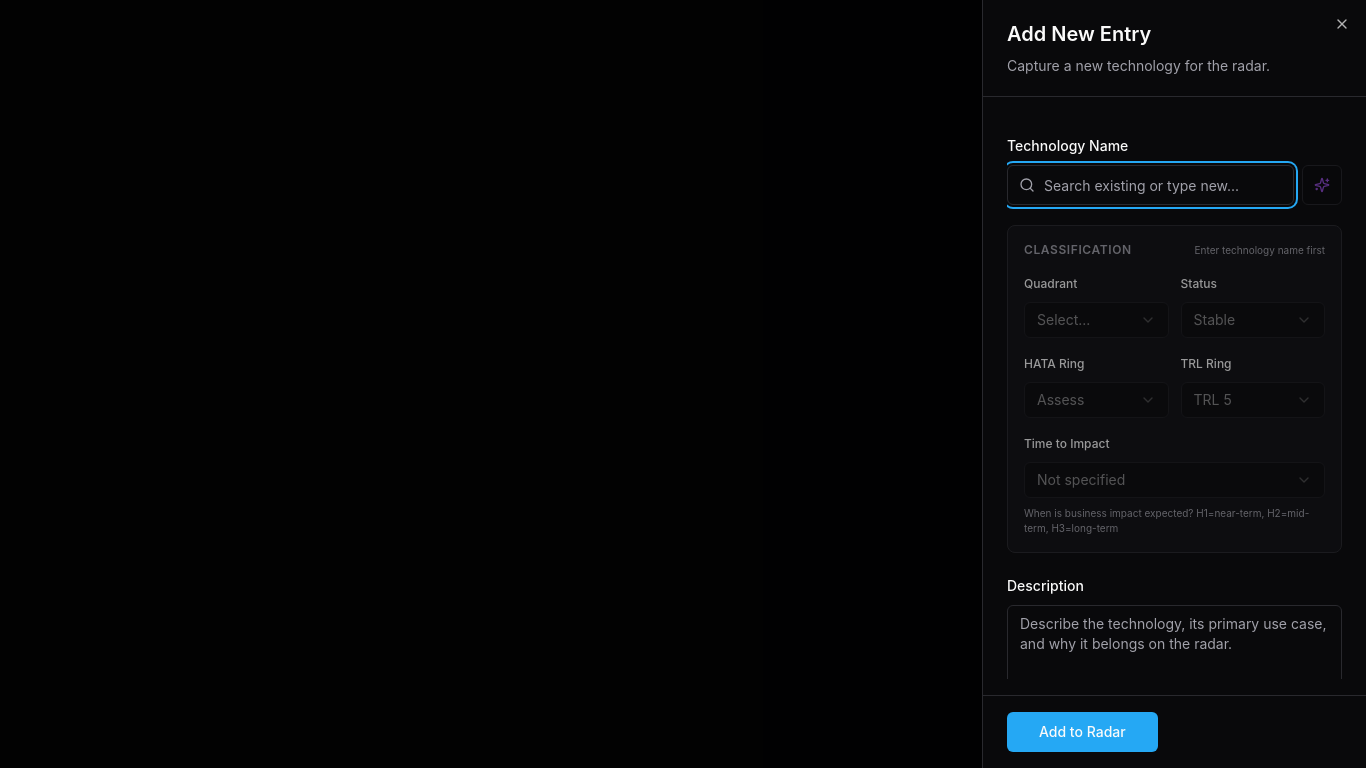
it: AddEntrySheet quadrant resolution › names the clear-selected-technology button with the technology name (UX-040)
Type "Existing" into the field with placeholder "Search existing or type new..." at (1150, 185), box [1007, 165, 1294, 205]
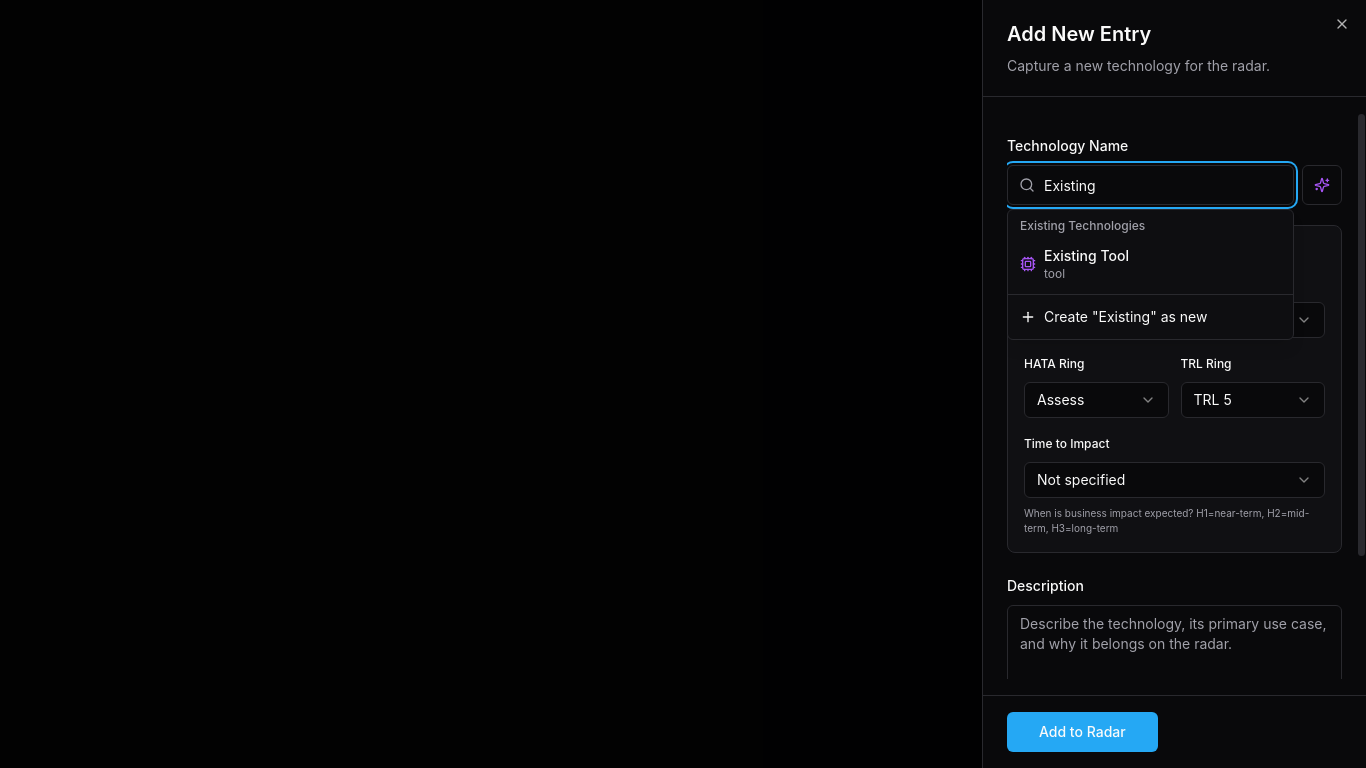
Click the text "Existing Tool" at (1086, 256), box [1044, 247, 1129, 264]
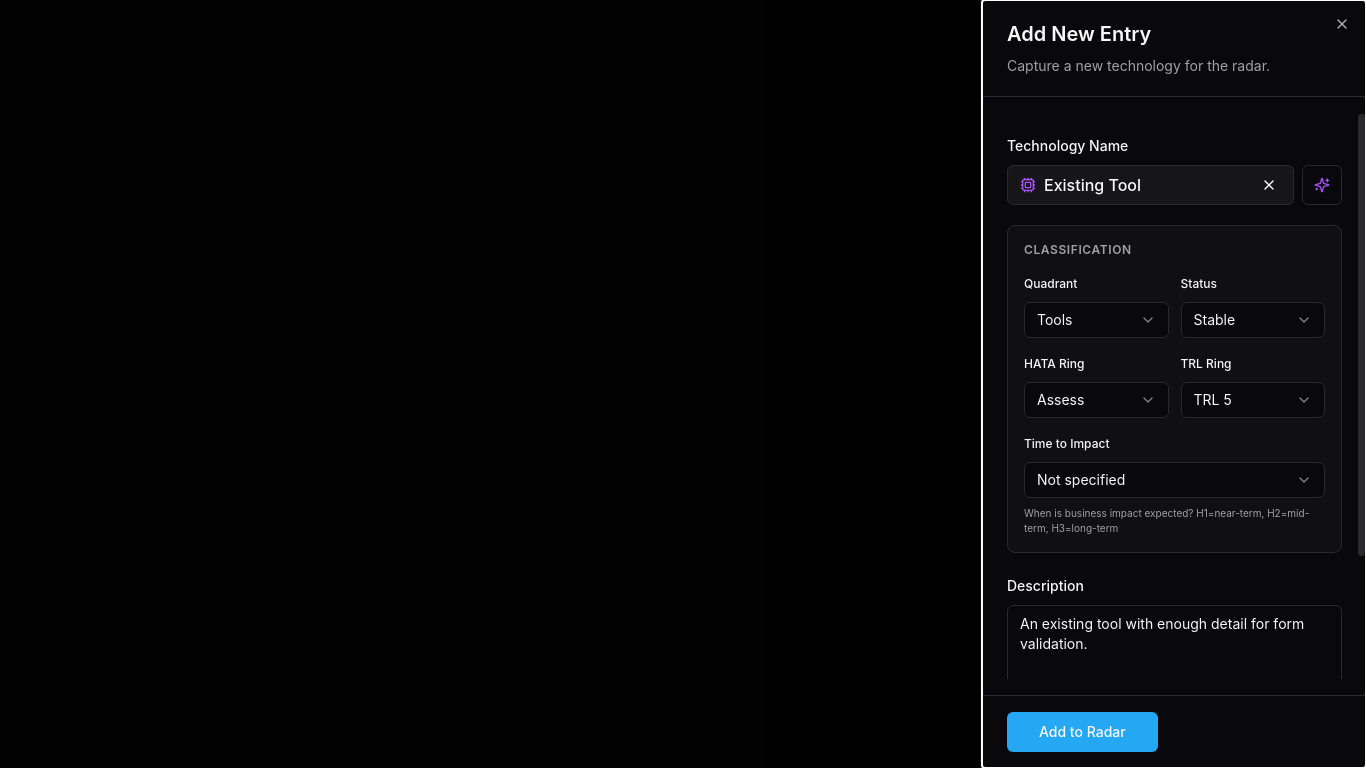
Expected: the button named "clear selected technology existing tool" is shown, [1257, 173, 1281, 197]
